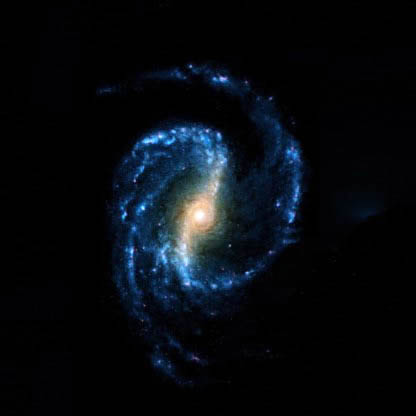NGC 1300: (84, 59, 312, 373)
